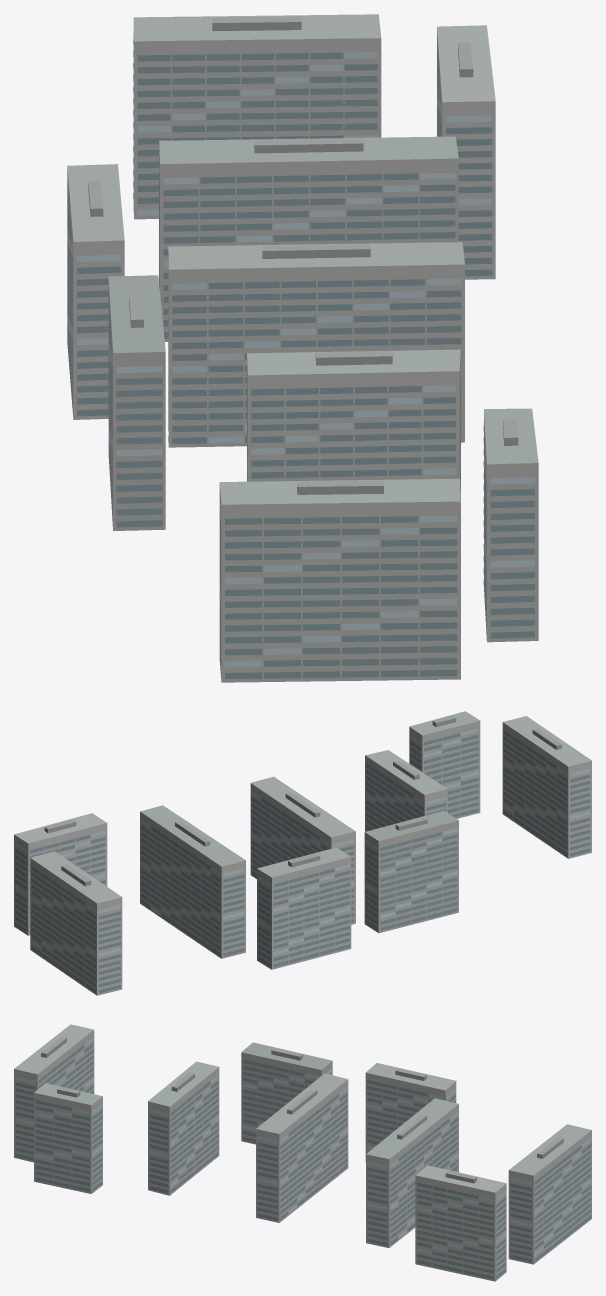
The model's file is apt-a15703309.glb.
3 renders of one model, top to bottom at view 1: azimuth 30°, elevation 25°; view 2: azimuth 150°, elevation 25°; view 3: azimuth 270°, elevation 25°, orthographic. The views are drawn at different scales.
Visible parts, largest first — view 1: apt-a15703309; view 2: apt-a15703309; view 3: apt-a15703309.
Boxes of the visible parts, x1,y1,x2,y2 form: apt-a15703309: (67,14,538,682); apt-a15703309: (14,711,591,995); apt-a15703309: (14,1024,591,1281).
Size of the model in its own units: 186 by 47.81 by 269.
